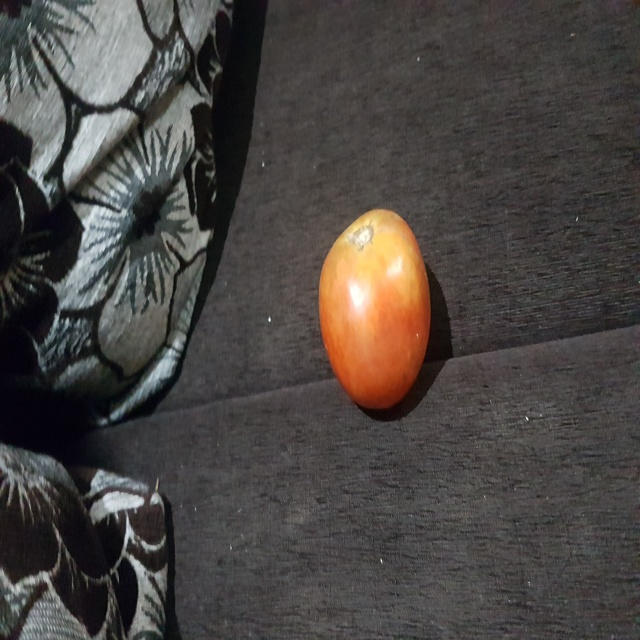tomato: (304, 200, 455, 417)
